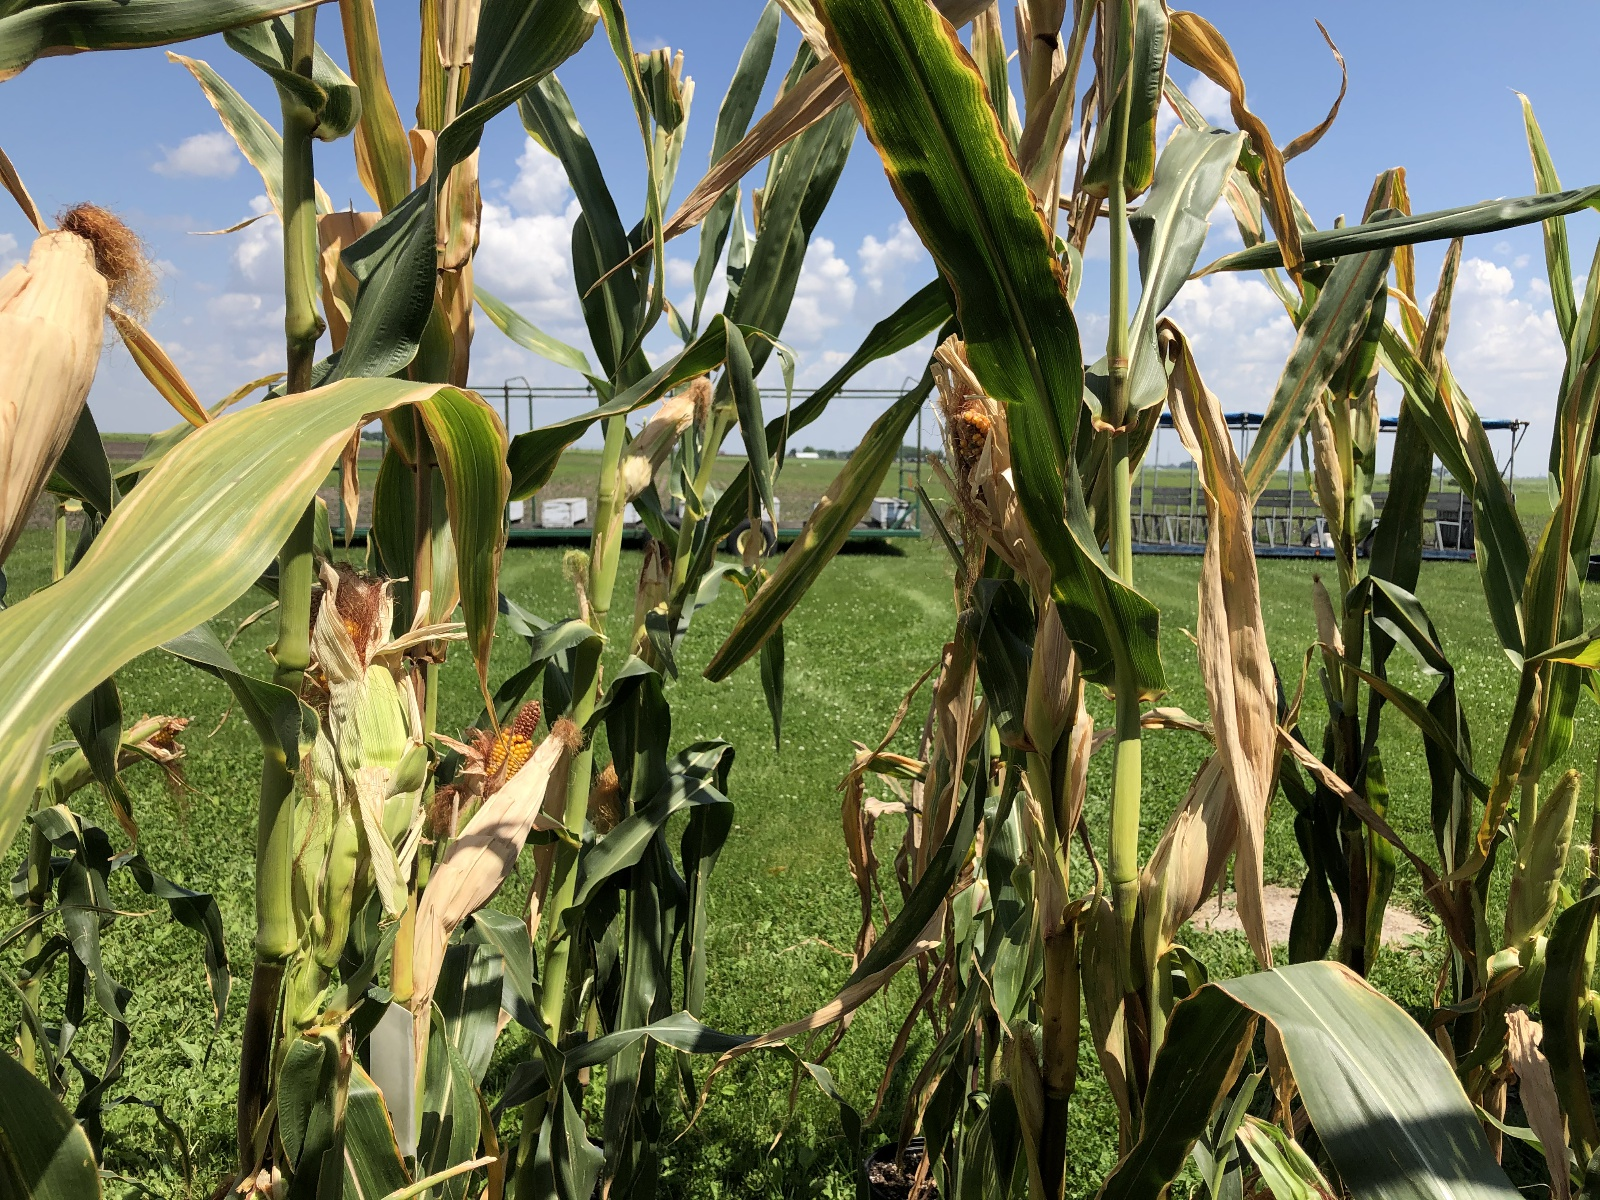ear: (1, 188, 117, 558), (427, 715, 588, 926), (1141, 718, 1243, 930), (317, 561, 408, 776), (945, 397, 1043, 567), (1504, 754, 1585, 945), (605, 372, 716, 504), (57, 713, 205, 787), (477, 689, 548, 787), (1026, 587, 1070, 740)
